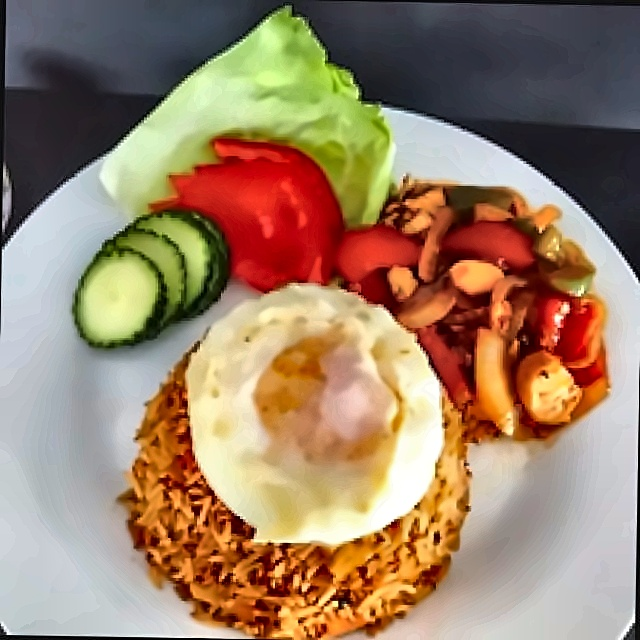cucumber_slice: (65, 238, 167, 352), (113, 214, 208, 318)
egg: (164, 257, 464, 557)
rice: (117, 261, 500, 640)
